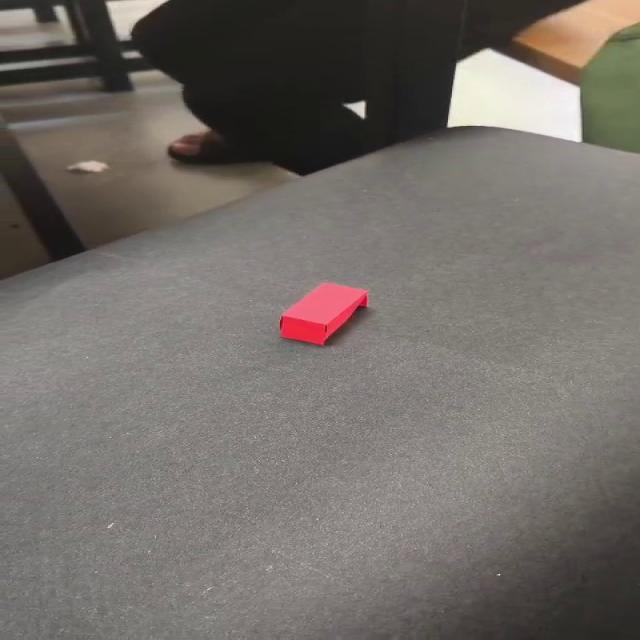red block: (277, 281, 368, 346)
